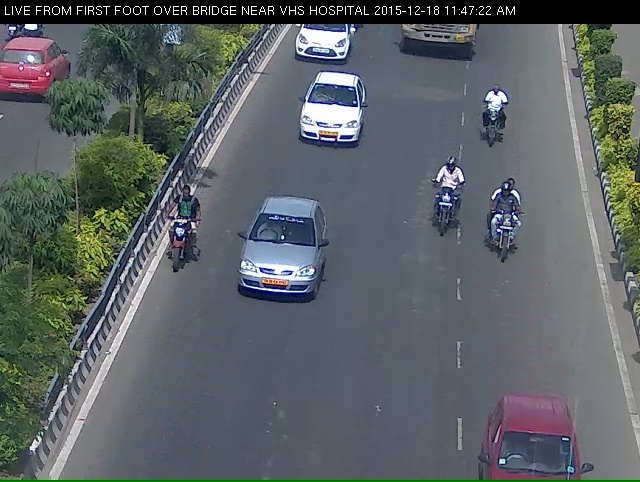Bus: (392, 21, 490, 65)
Car: (221, 213, 321, 328), (291, 78, 373, 163), (475, 423, 591, 482), (283, 21, 350, 71)
Person: (130, 193, 200, 299), (471, 76, 513, 172), (425, 167, 465, 258), (492, 188, 527, 289)
